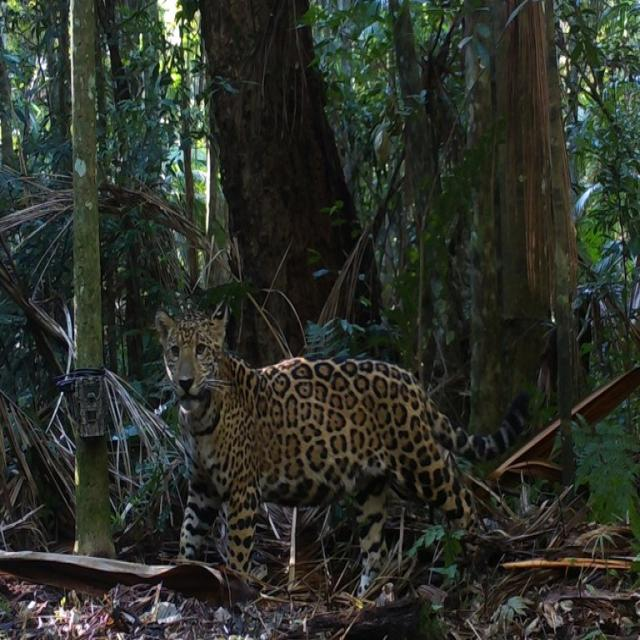Jaguar: (150, 299, 525, 584)
